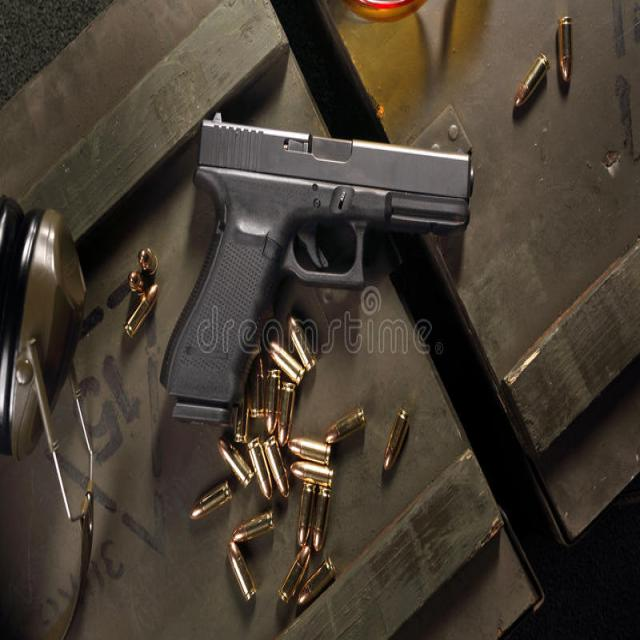handgun: (159, 111, 482, 465)
